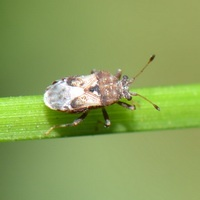insect: (44, 55, 159, 134)
